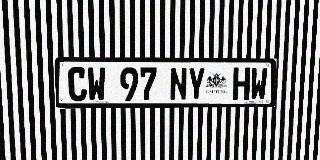7: (139, 67, 157, 101)
9: (120, 67, 138, 101)
C: (68, 67, 87, 101)
H: (232, 67, 250, 100)
N: (169, 67, 187, 101)
W: (87, 67, 106, 101), (250, 68, 268, 100)
Y: (187, 67, 205, 101)
